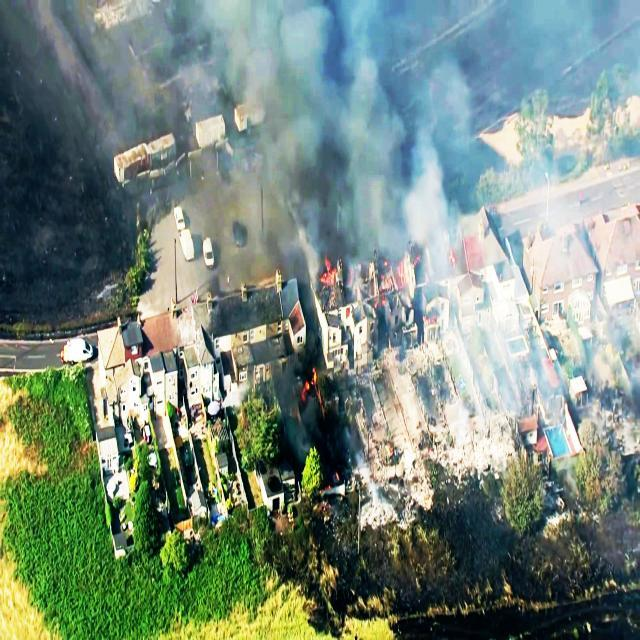Fire: (297, 364, 326, 416), (318, 256, 338, 290)
Smoke: (6, 0, 640, 246), (391, 256, 640, 444)
